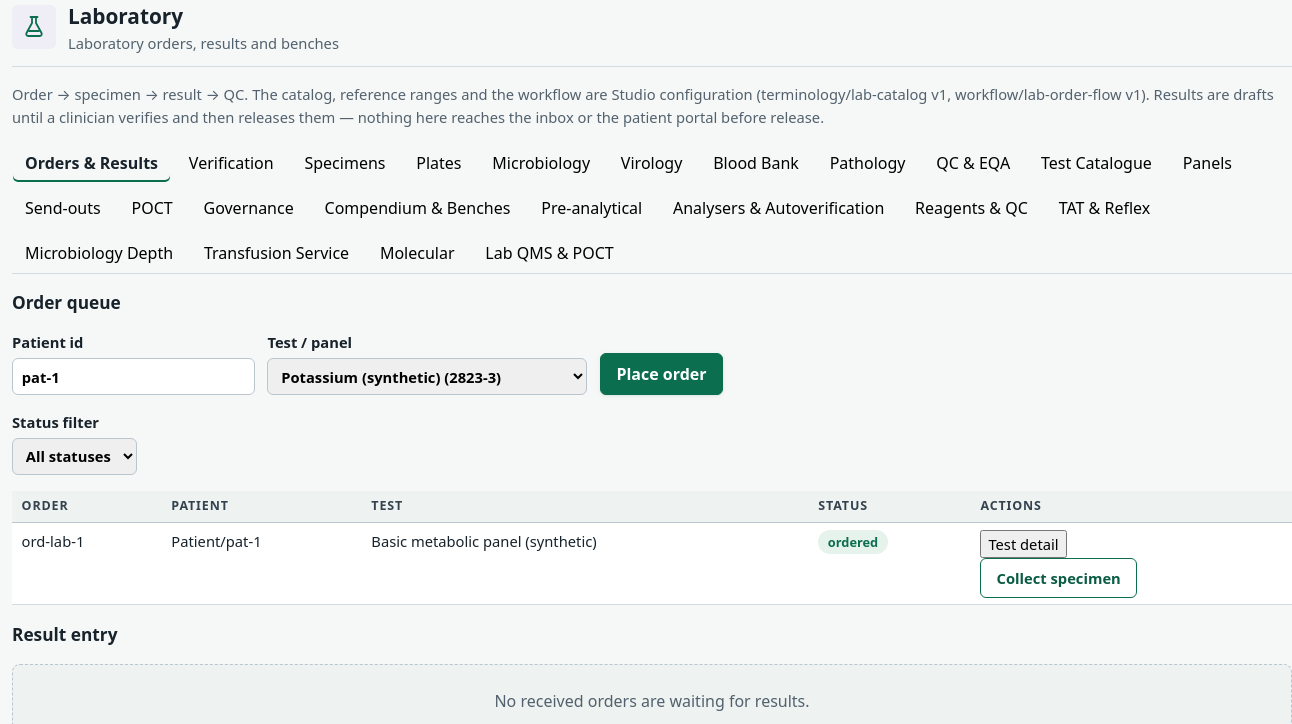
Test: LabPage Test detail (WS3b) › renders the plated step, delta + critical badges as text, report stamps and the ack trail
Expected: the text "ord-lab-1" is shown, [12, 523, 162, 605]
What coordinates should you click on to do the following:
click the button "Test detail"
I would click on:
 (1024, 544)
Its box is [980, 530, 1067, 558].
(page scrolled)
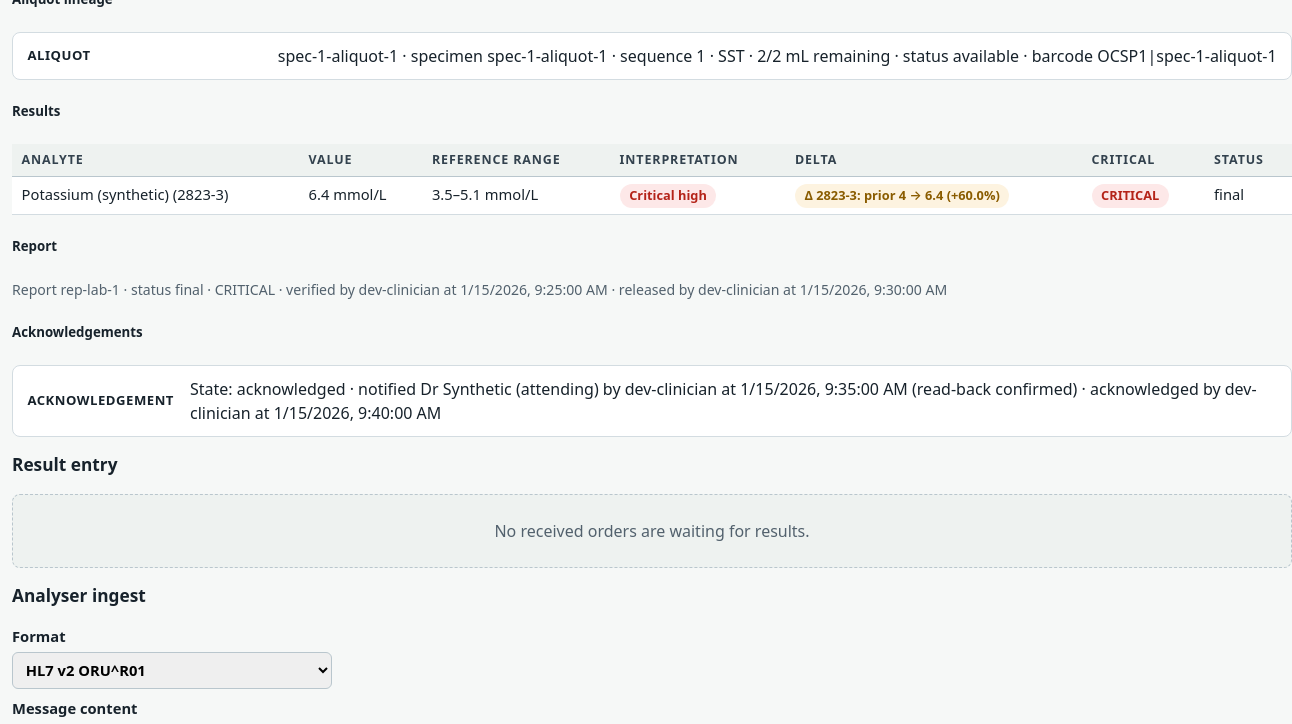
Now the text "spec-1-aliquot-1" is shown, box [278, 45, 398, 67]
Now the text "6.4 mmol/L" is shown, box [299, 176, 422, 215]
Now the text "3.5–5.1 mmol/L" is shown, box [422, 176, 610, 215]
